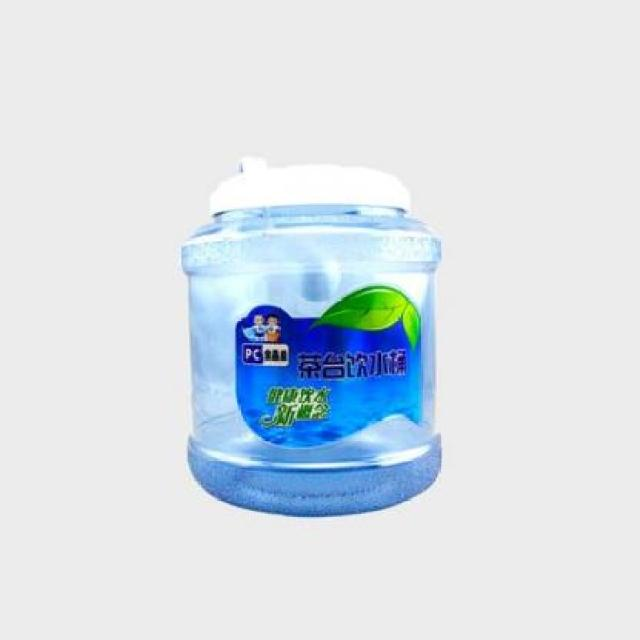coolerbottle: (178, 160, 448, 524)
